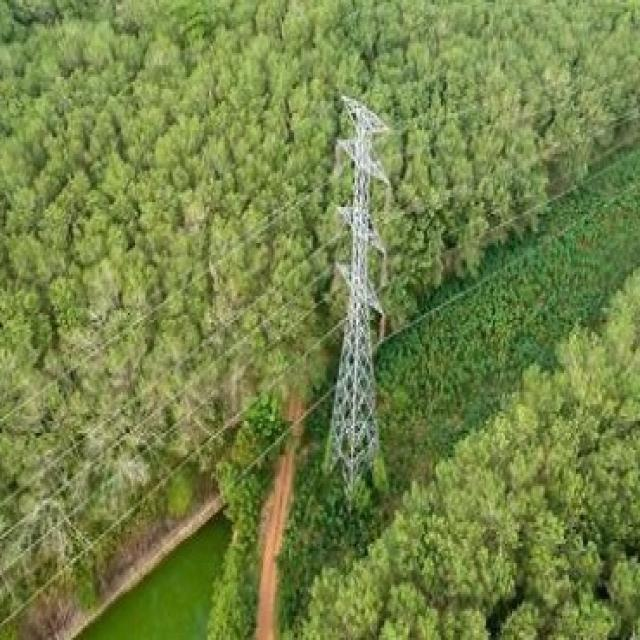utility poles: (326, 74, 400, 493)
